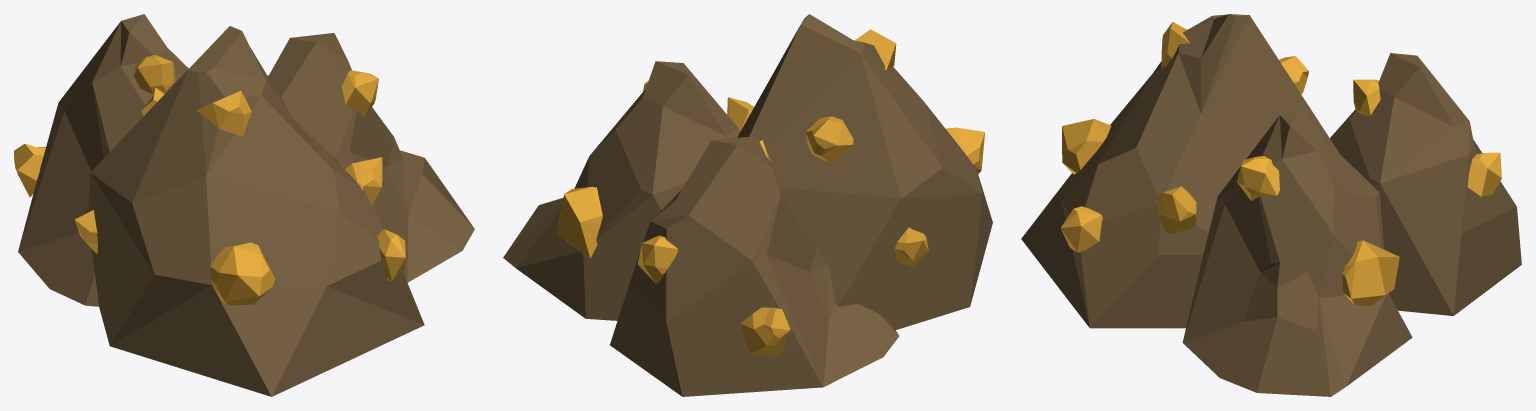
File: OreMinerals.fbx
The picture shows the model from 3 angles, left to right: view 1: azimuth 30°, elevation 25°; view 2: azimuth 150°, elevation 25°; view 3: azimuth 270°, elevation 25°; orthographic projection. The views are drawn at different scales.
Parts seen in each view (by area): view 1: Icosphere; view 2: Icosphere; view 3: Icosphere.
Boxes of the visible parts, box(x1,y1,x2,y2) form: Icosphere: box(14, 14, 474, 396); Icosphere: box(503, 14, 992, 396); Icosphere: box(1021, 14, 1521, 396).
Bounding box in the file's own units: 474 × 303 × 525.
